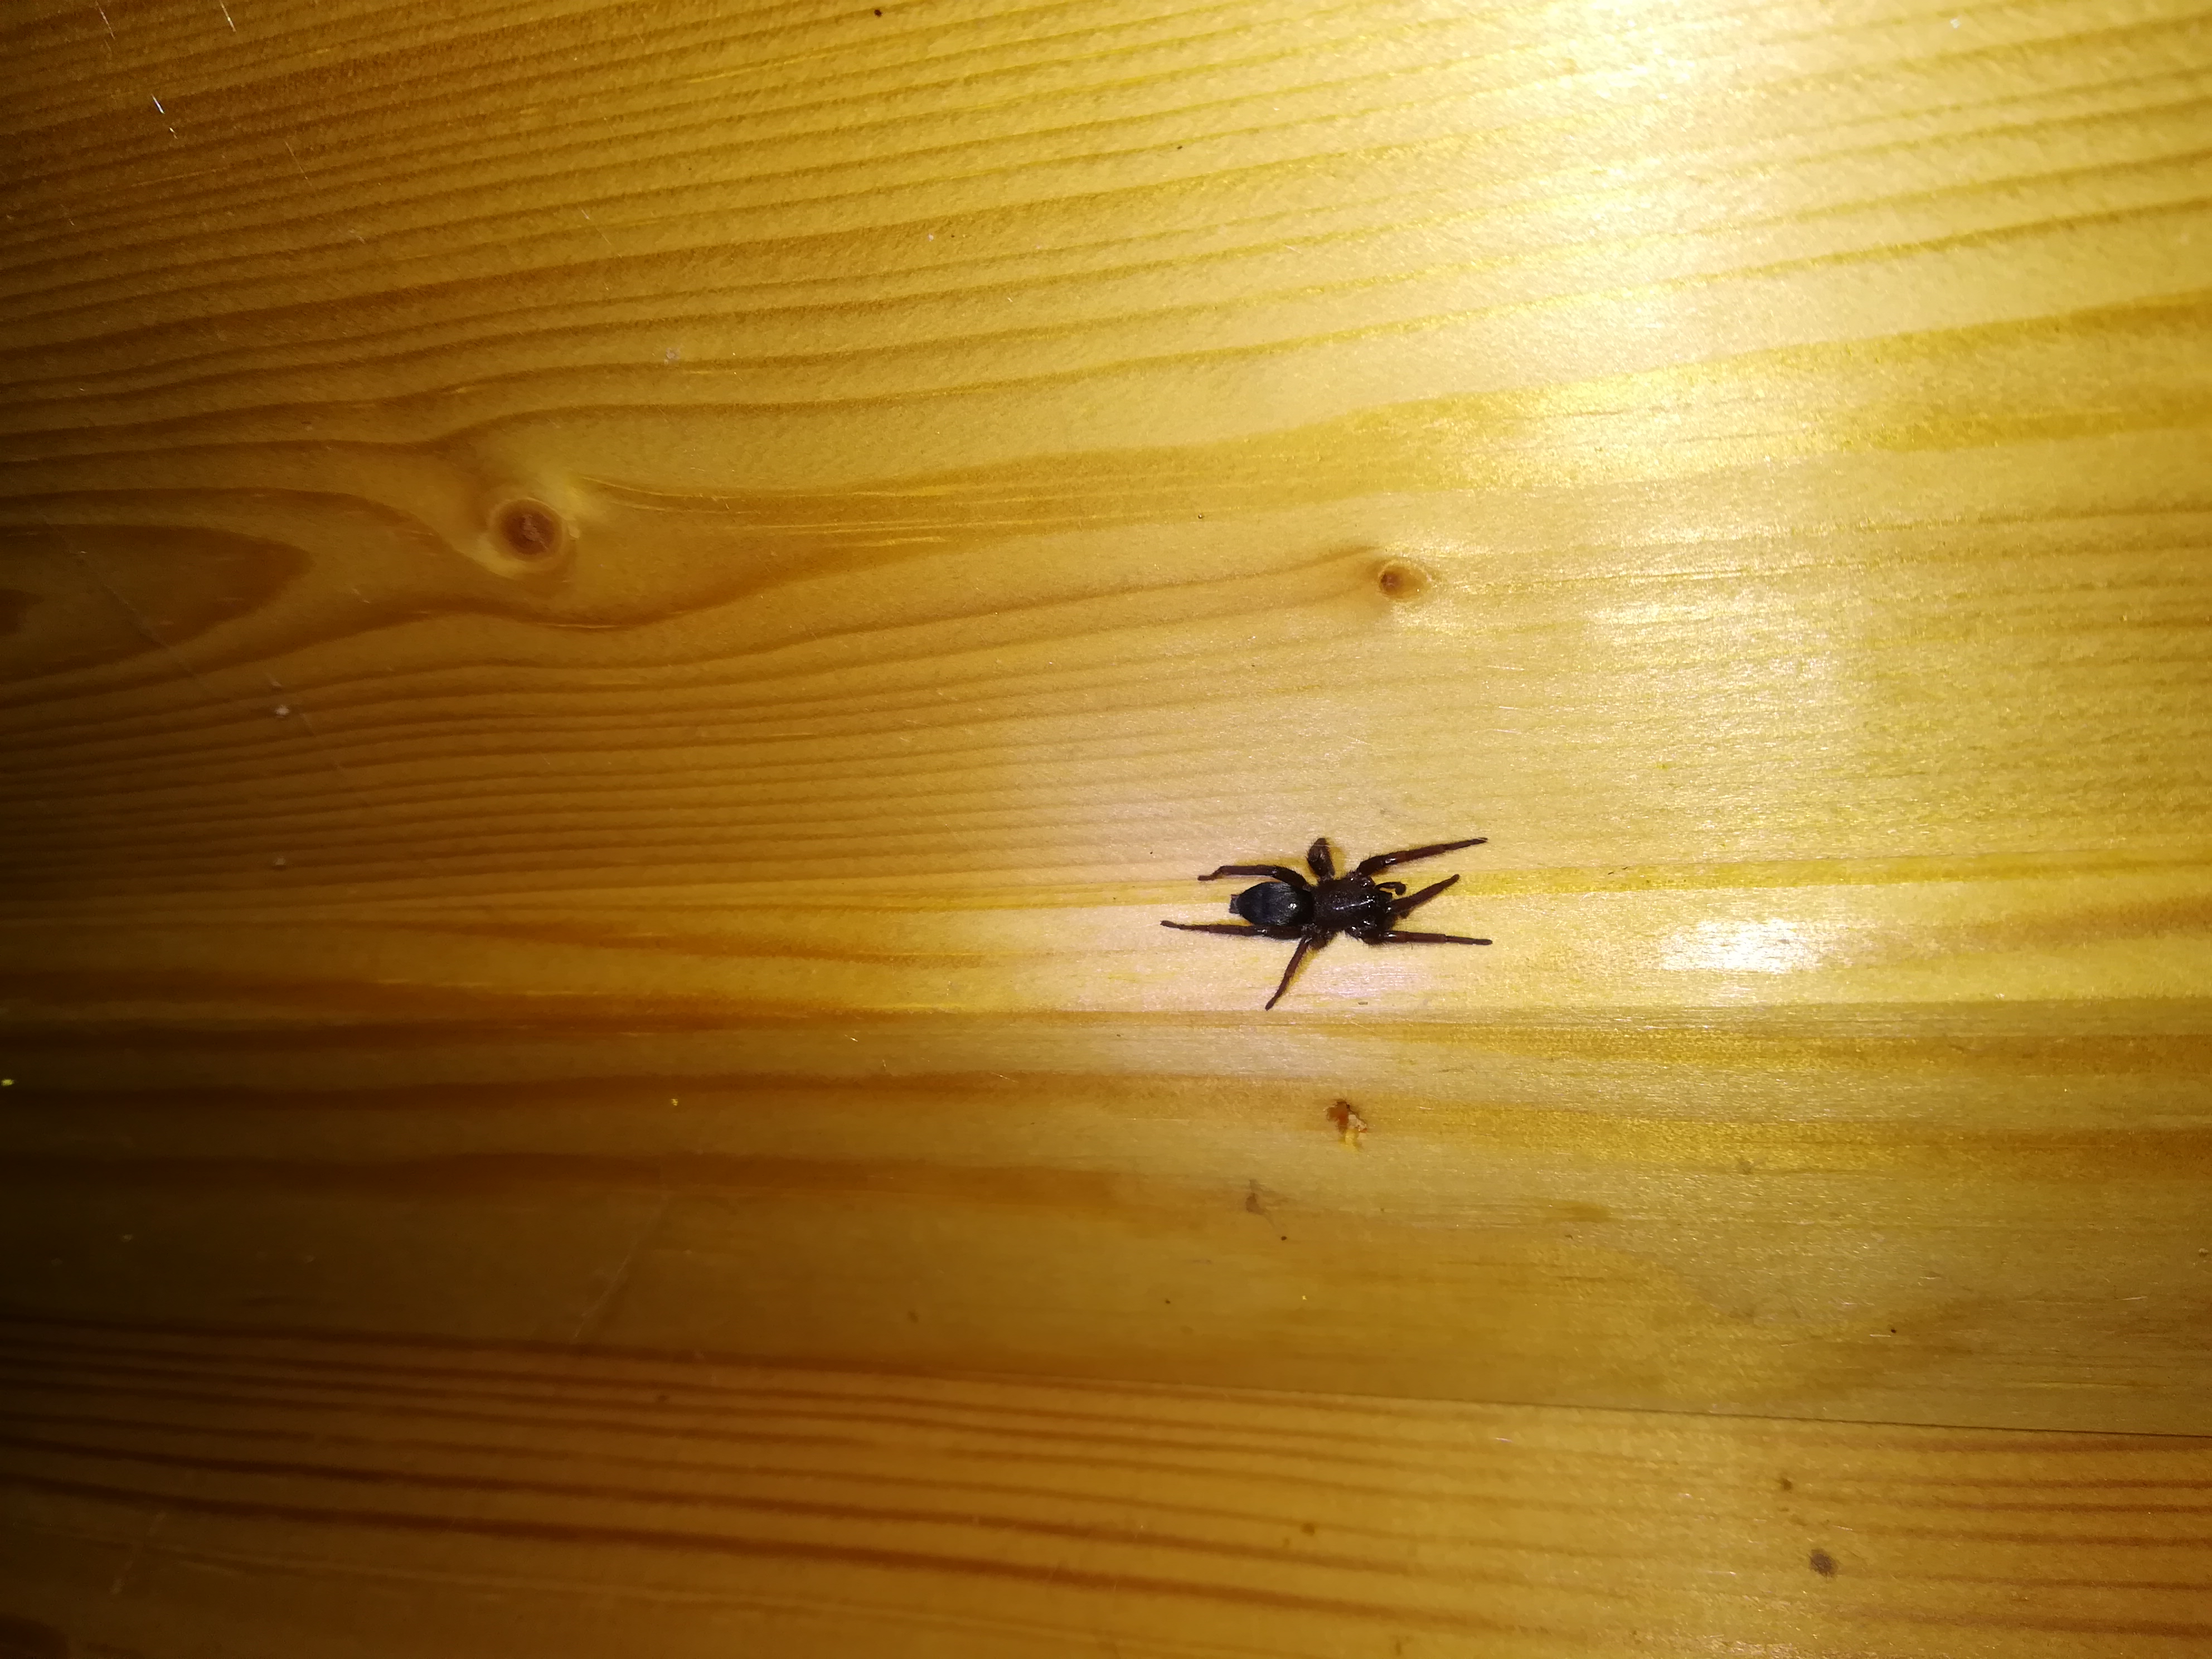spider: (1151, 791, 1514, 1014)
